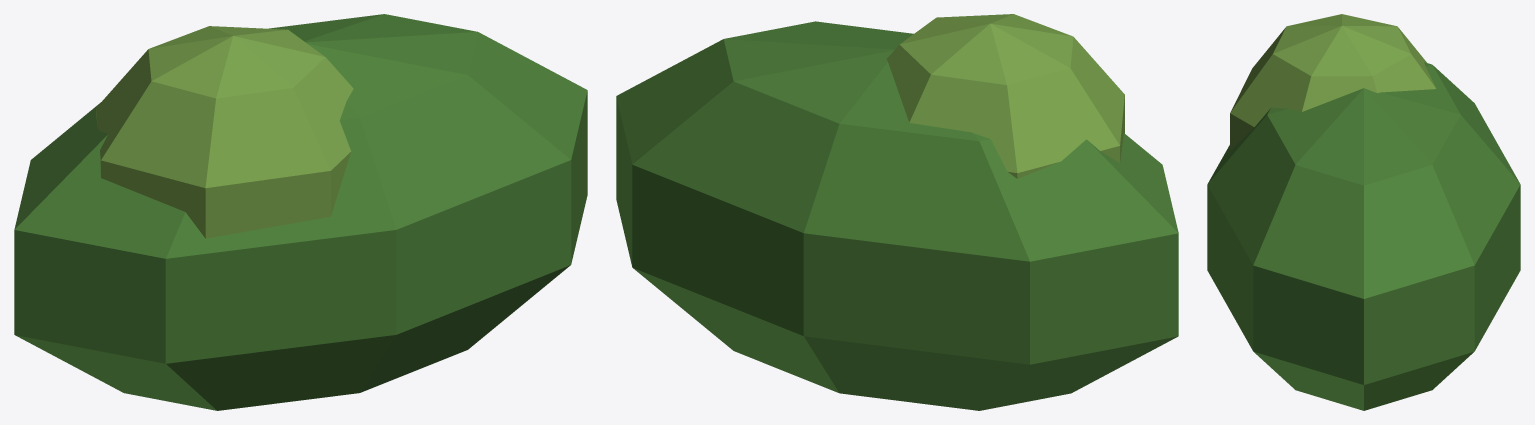
The model's file is BushWide.obj.
The picture shows the model from 3 angles, left to right: view 1: azimuth 30°, elevation 25°; view 2: azimuth 150°, elevation 25°; view 3: azimuth 270°, elevation 25°; orthographic projection. The views are drawn at different scales.
Visible parts, largest first — view 1: BushWide; view 2: BushWide; view 3: BushWide.
Boxes of the visible parts, x1,y1,x2,y2 form: BushWide: (14, 14, 587, 410); BushWide: (616, 14, 1178, 410); BushWide: (1207, 14, 1520, 410).
Size of the model in its own units: 2.47 by 1.55 by 1.43.
